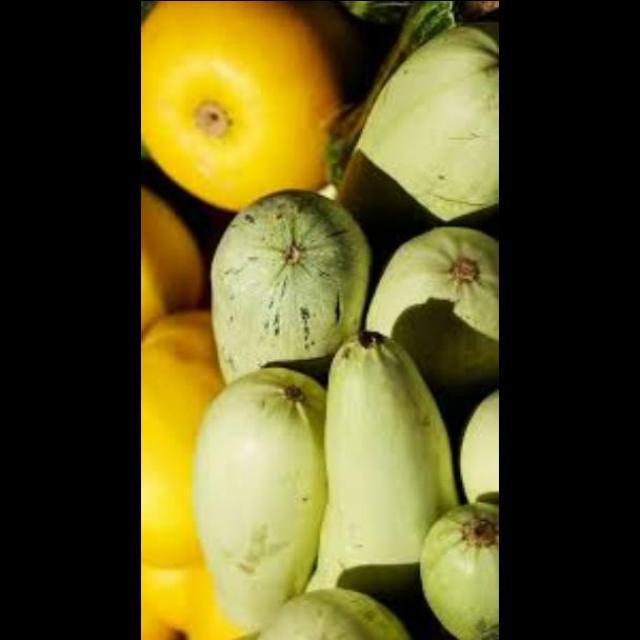vegetable marrow: (276, 327, 456, 606), (198, 158, 378, 406), (182, 347, 344, 621), (326, 10, 497, 251), (350, 230, 498, 392), (414, 486, 498, 640), (428, 354, 498, 504), (254, 587, 412, 640)
